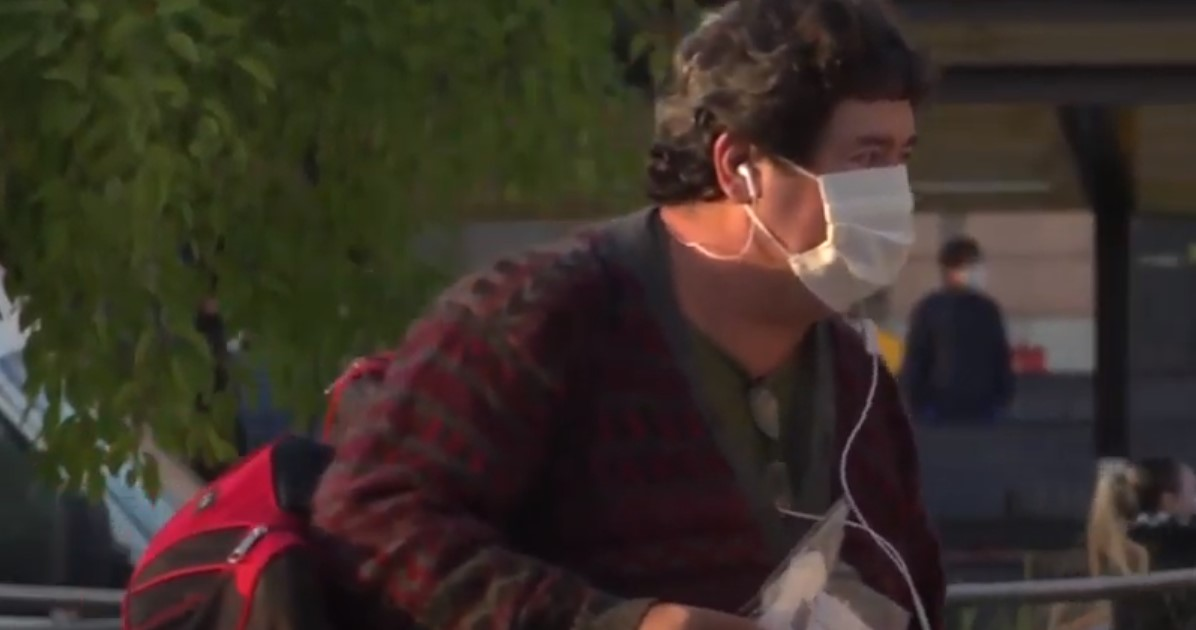face_with_mask: (643, 2, 917, 320)
